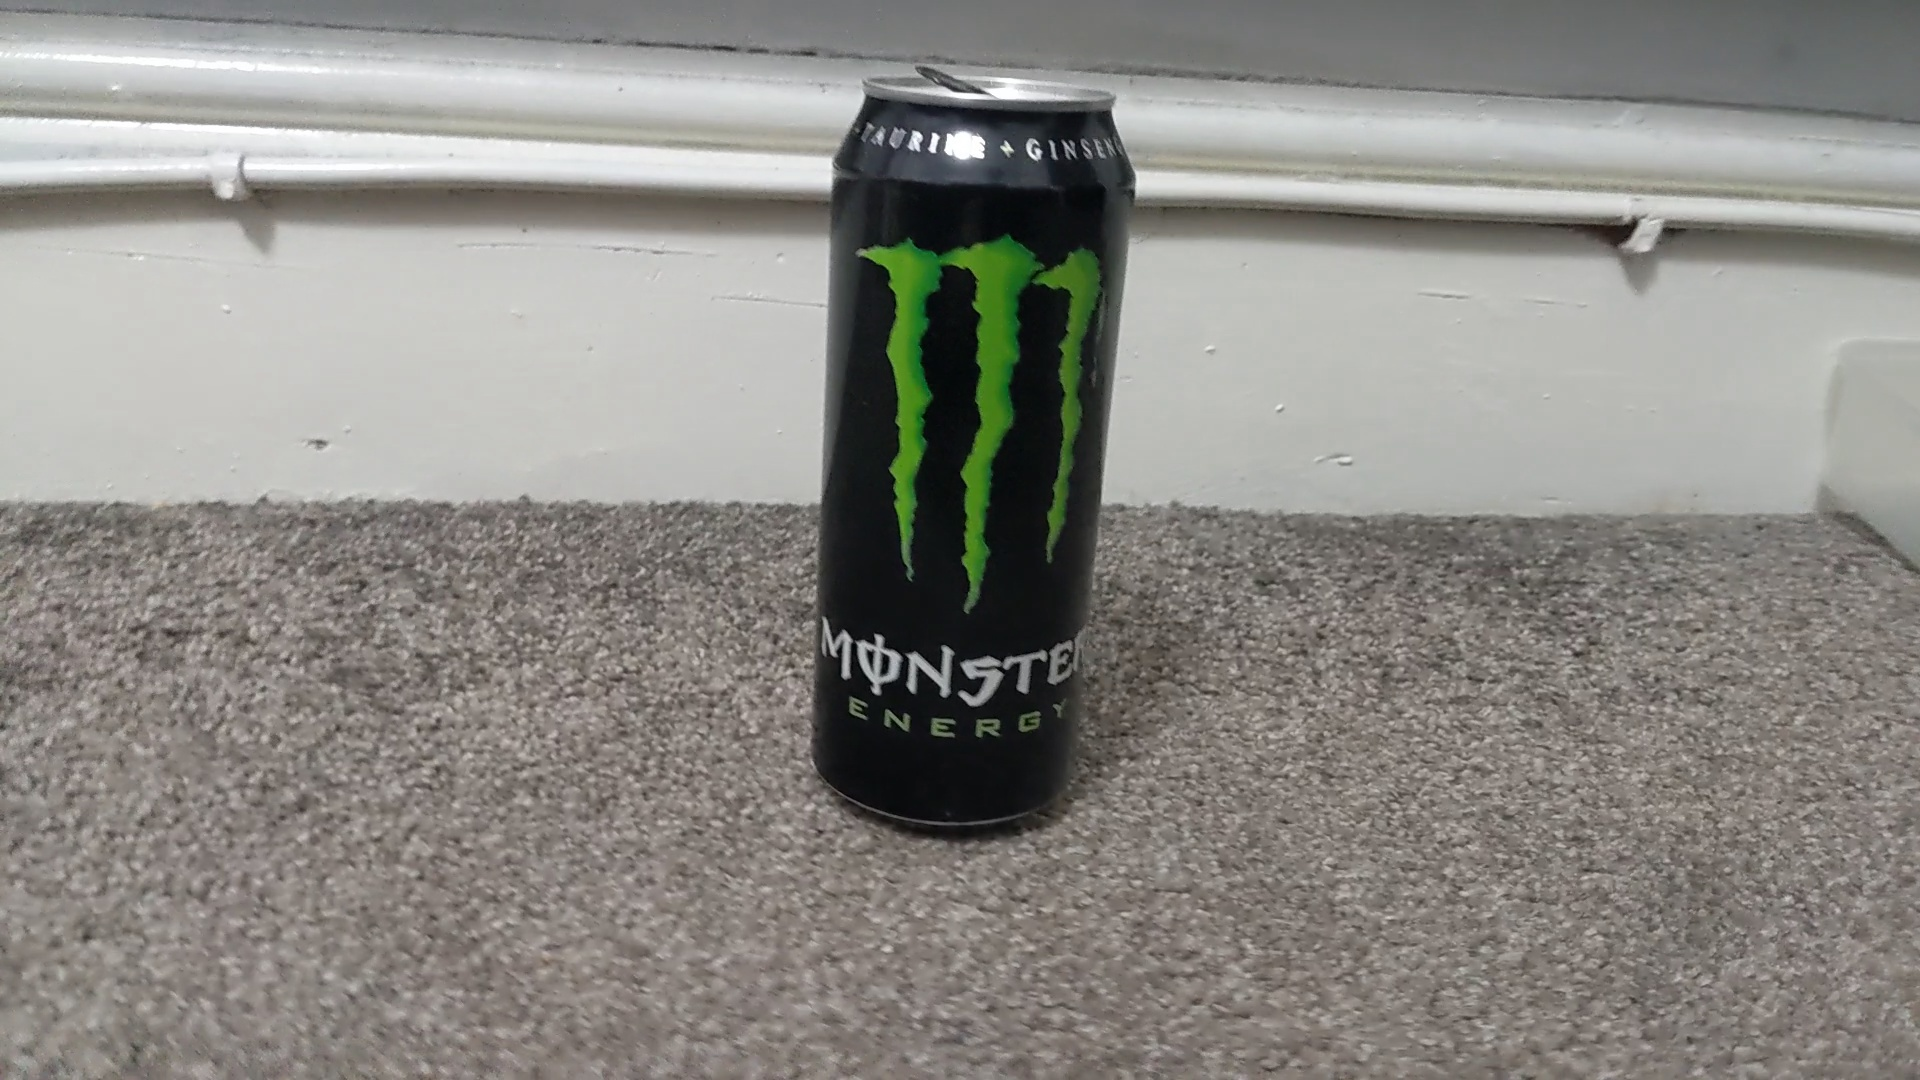monster-original: (811, 65, 1138, 832)
